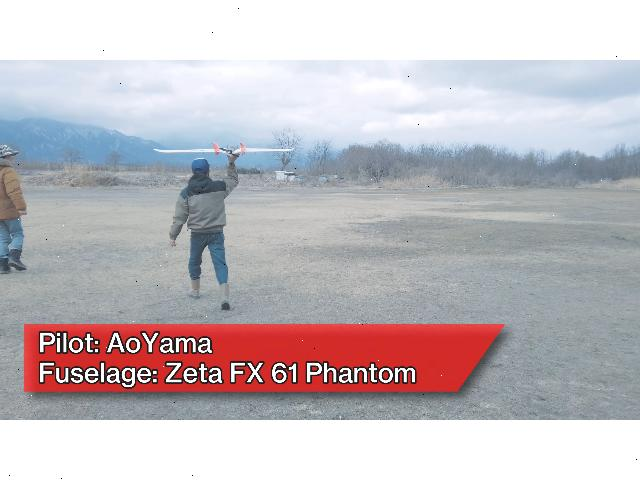Anti-Drone: (146, 140, 296, 157)
